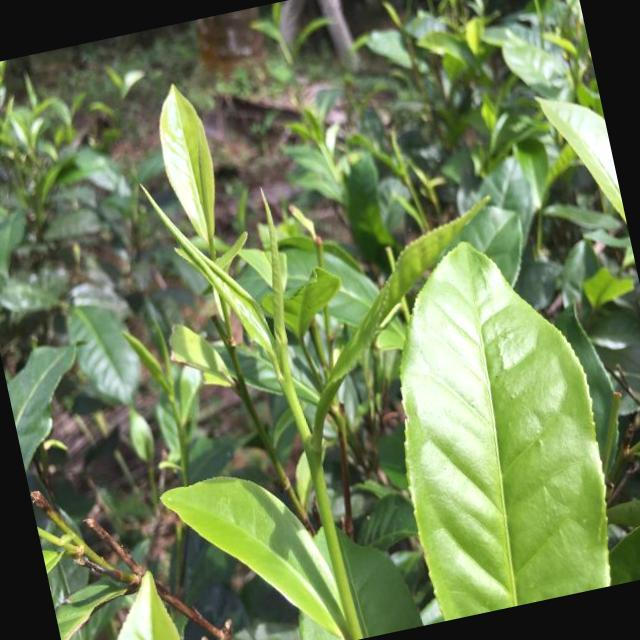Stem: (279, 376, 302, 416)
